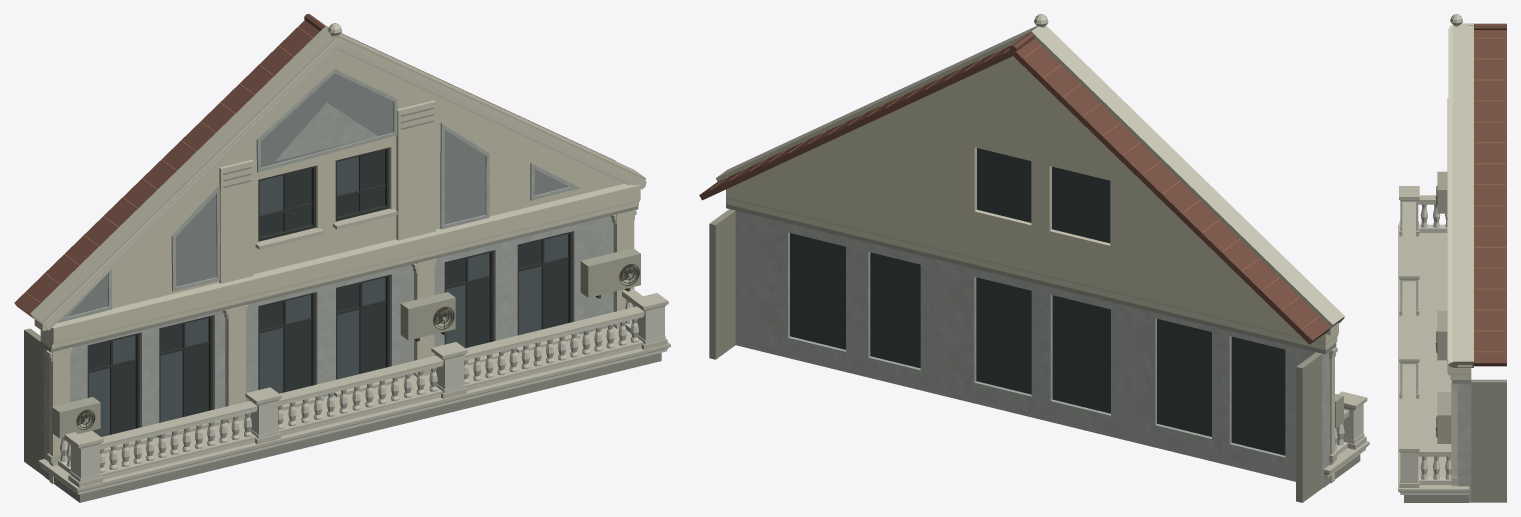
File: yangpu-fudan-zibin-hall-lawn-gable-lod.glb
3 views of the same model, side by side, from view 1: azimuth 30°, elevation 25°; view 2: azimuth 150°, elevation 25°; view 3: azimuth 270°, elevation 25° (orthographic). The views are drawn at different scales.
Visible parts, largest first — view 1: 复旦大学子彬院草坪侧三角山墙与阳台; view 2: 复旦大学子彬院草坪侧三角山墙与阳台; view 3: 复旦大学子彬院草坪侧三角山墙与阳台.
Boxes of the visible parts, box(x1,y1,x2,y2) form: 复旦大学子彬院草坪侧三角山墙与阳台: box(14, 14, 670, 502); 复旦大学子彬院草坪侧三角山墙与阳台: box(699, 14, 1369, 502); 复旦大学子彬院草坪侧三角山墙与阳台: box(1398, 14, 1506, 502).
Size of the model in its own units: 13.59 by 8.35 by 2.32.
Materials: 15 (1 with a texture image).
